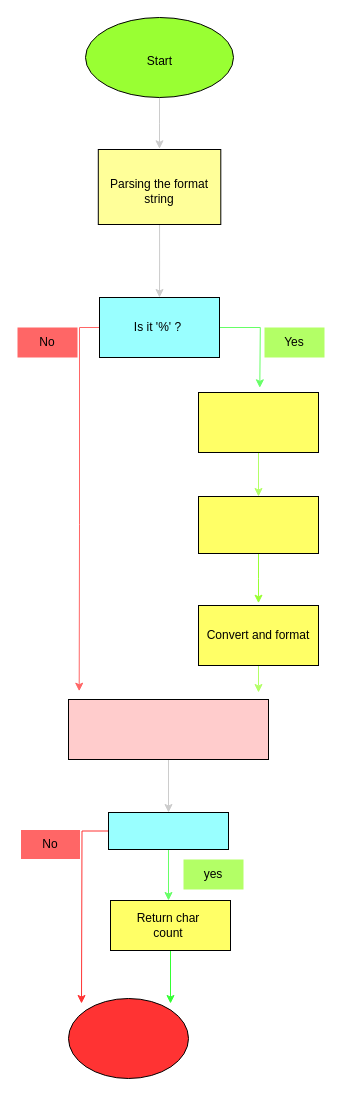
Some shapes in this 341 by 1096 pixel diagram are drawn without their labels. Each missing label, with the centre of its shape:
"END" goes at (128,1038).
"End of string ?" goes at (168,831).
"Output character" goes at (168,729).
"Parse specifier" goes at (258,422).
"Retrieve arg" goes at (258,525).
